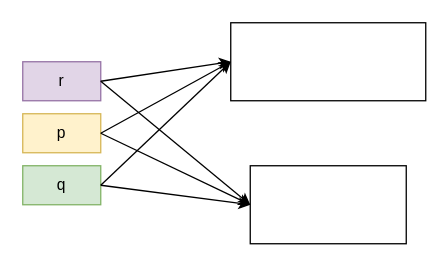
The diagram is 448 pixels wide and 267 high, and some of its shapes have lost their labels. Here are the shapes that lost their labels. From the top down, the centre of each, then its label:
At [327,61]: "ref_count(引用计数)".
At [327,204]: "data(数据)".
